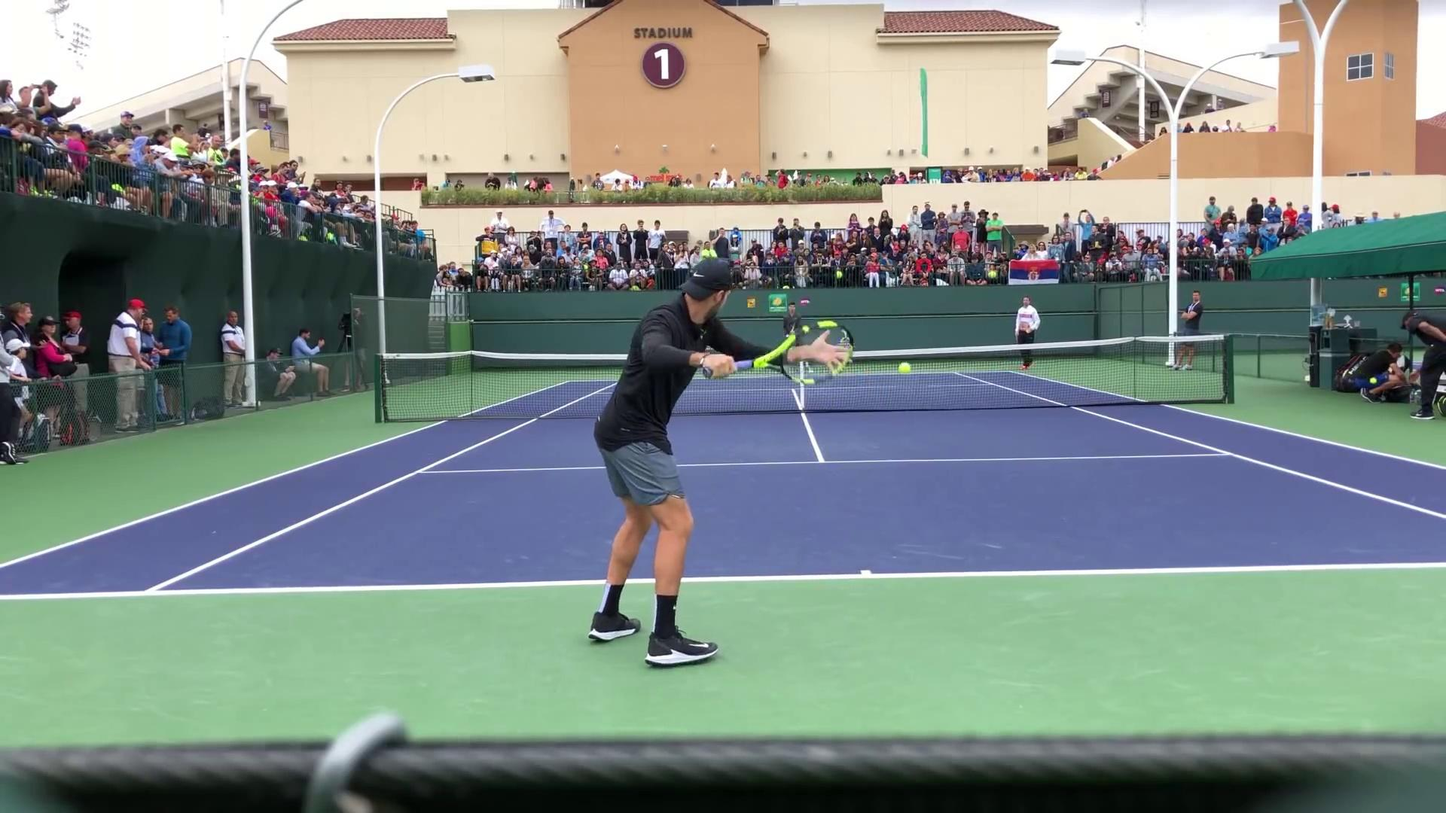ball: (898, 361, 912, 373)
